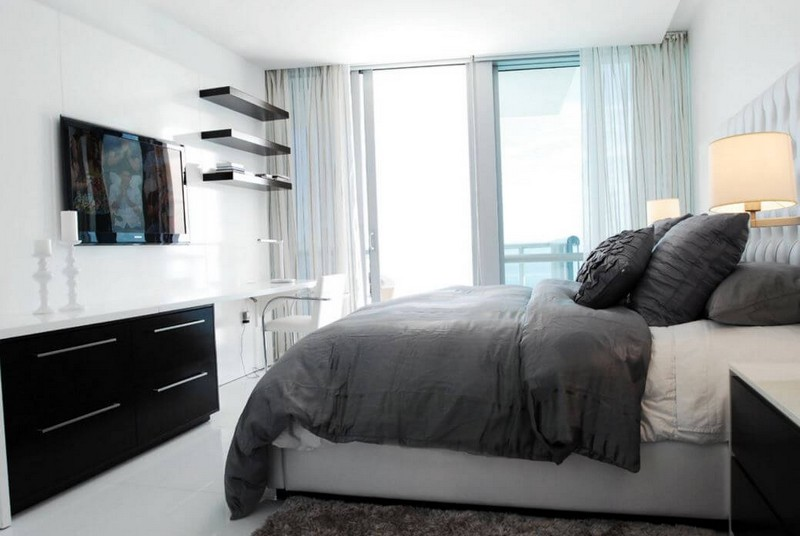bed: (253, 214, 800, 515)
chair: (256, 270, 350, 368)
lamp: (706, 126, 800, 236), (642, 193, 686, 234)
table: (179, 266, 317, 371), (724, 354, 799, 533)
